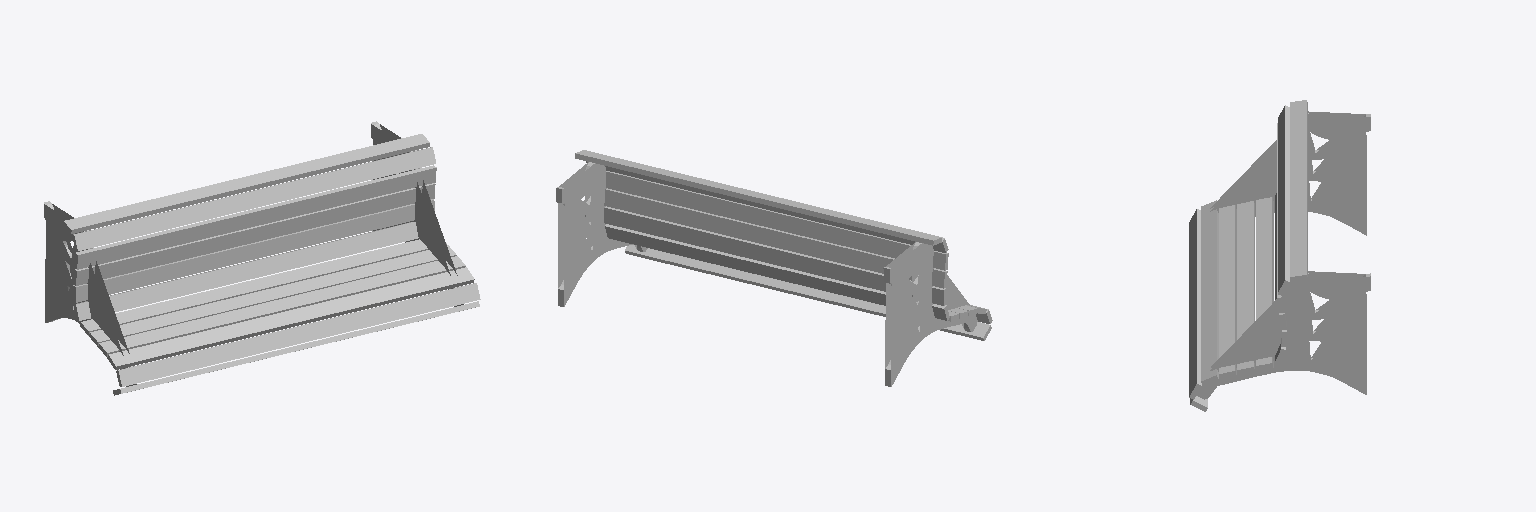
File: parkBench06.obj
The picture shows the model from 3 angles: view 1: azimuth 30°, elevation 25°; view 2: azimuth 150°, elevation 25°; view 3: azimuth 270°, elevation 25°; orthographic projection.
Visible parts, largest first — view 1: Cube.011_Cube.012, Plane.002_Plane.003; view 2: Cube.011_Cube.012, Plane.002_Plane.003; view 3: Cube.011_Cube.012, Plane.002_Plane.003.
Boxes of the visible parts, box(x1,y1,x2,y2) form: Cube.011_Cube.012: box(63, 134, 480, 395); Plane.002_Plane.003: box(44, 121, 463, 386); Cube.011_Cube.012: box(575, 150, 992, 340); Plane.002_Plane.003: box(556, 162, 977, 386); Cube.011_Cube.012: box(1189, 100, 1307, 411); Plane.002_Plane.003: box(1196, 111, 1370, 399).
Bounding box in the file's own units: 396 × 145 × 174.